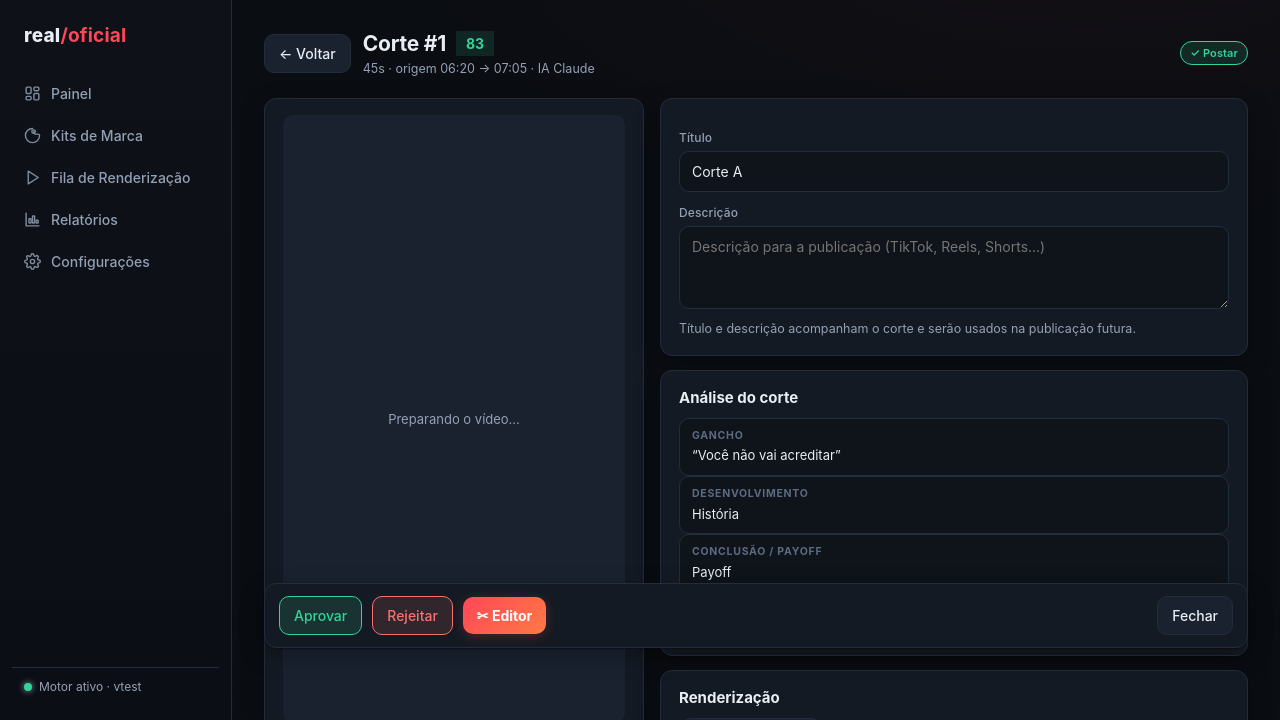
Test: Ponto 40 — tela de análise editorial › aprovar mantém a tela aberta com ✓ Aprovado e botão Renderizar
Click the button with test id "btn-approve": point(321, 616) [279,596,362,635]
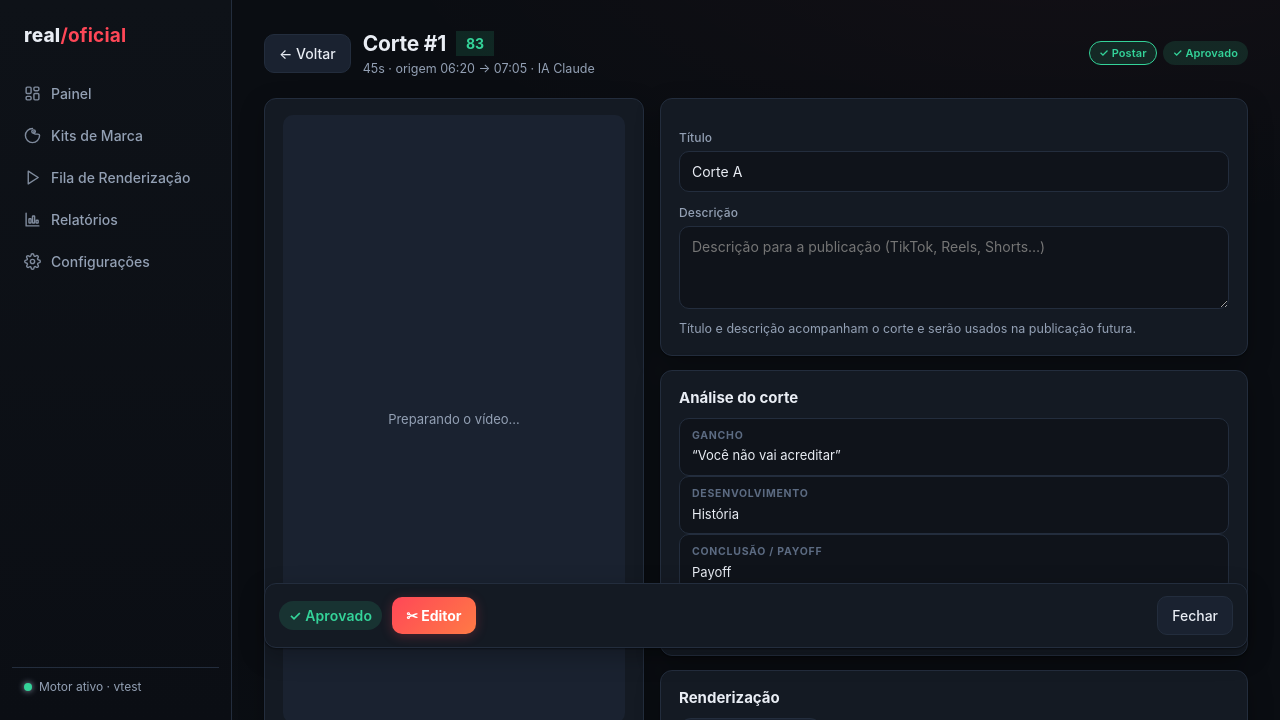
expect the text "✓ Aprovado" next to "✓ Postar" is shown: met, box [1173,46,1238,60]
